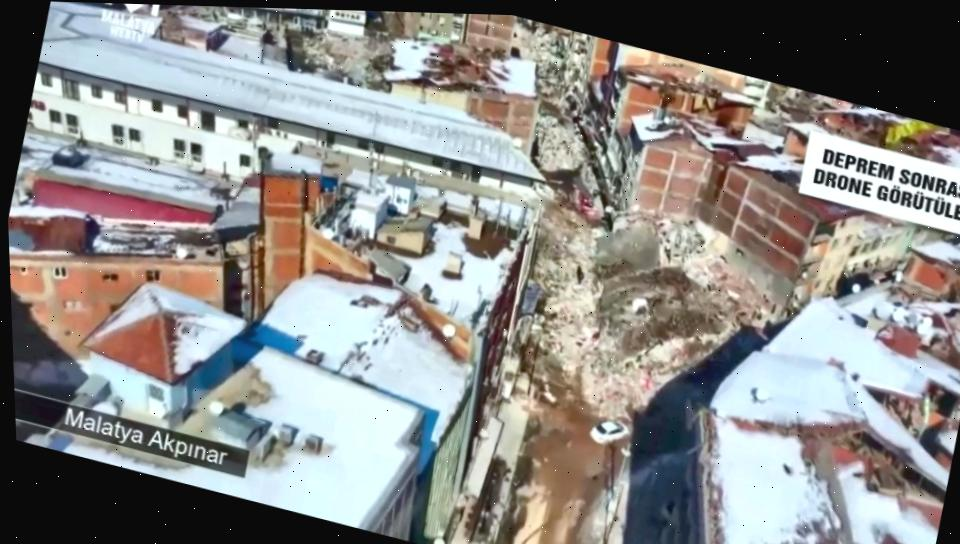kapali: (520, 178, 613, 471), (531, 103, 597, 189), (512, 17, 571, 109)
